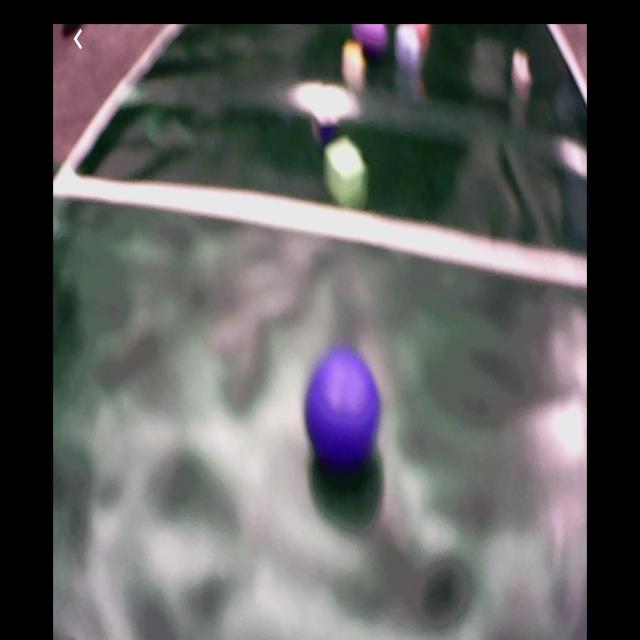ball: (305, 351, 381, 466), (354, 24, 394, 50)
